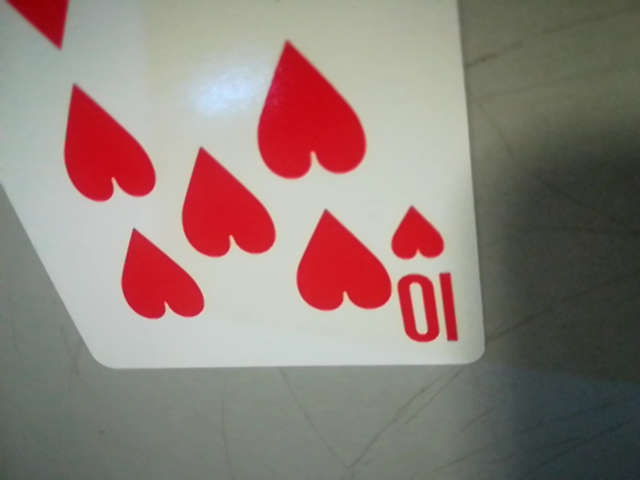hx 10: (386, 199, 473, 355)
